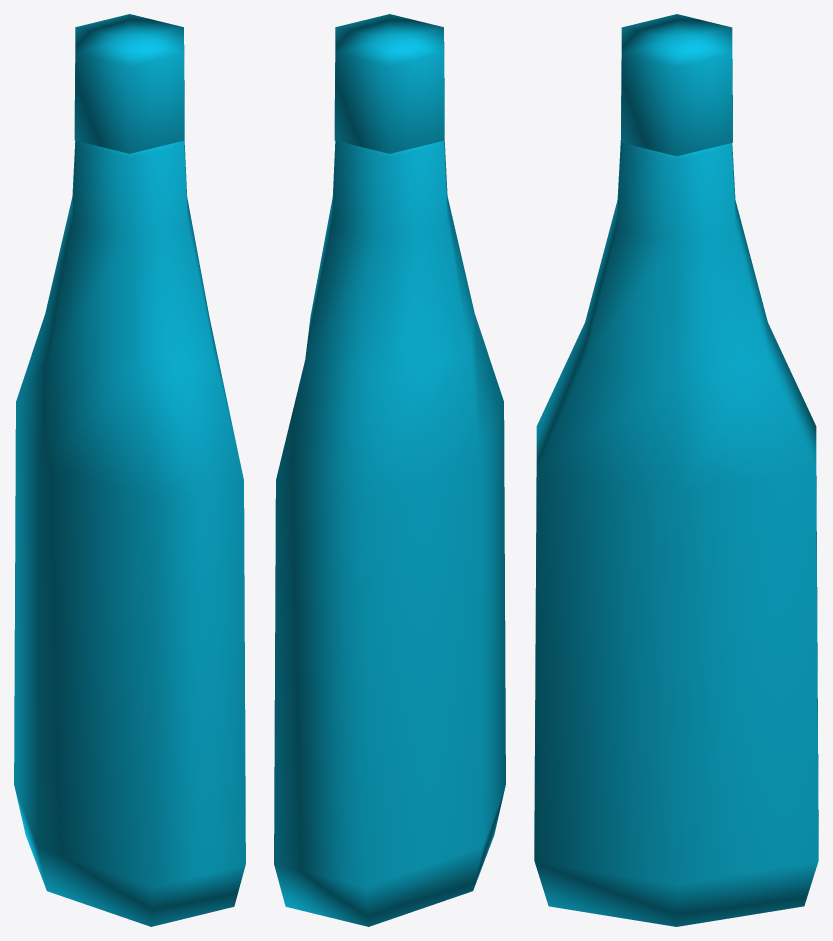
The model's file is Ketchup_Bottle_01_Lod1.fbx.
The picture shows the model from 3 angles, left to right: view 1: azimuth 30°, elevation 25°; view 2: azimuth 150°, elevation 25°; view 3: azimuth 270°, elevation 25°; orthographic projection.
Parts seen in each view (by area): view 1: Ketchup_Bottle_01_Lod1; view 2: Ketchup_Bottle_01_Lod1; view 3: Ketchup_Bottle_01_Lod1.
Boxes of the visible parts, x1=… form: Ketchup_Bottle_01_Lod1: x1=14, y1=14, x2=245, y2=926; Ketchup_Bottle_01_Lod1: x1=274, y1=14, x2=505, y2=926; Ketchup_Bottle_01_Lod1: x1=534, y1=14, x2=818, y2=926.
Bounding box in the file's own units: 5.86 × 25.32 × 7.68.
